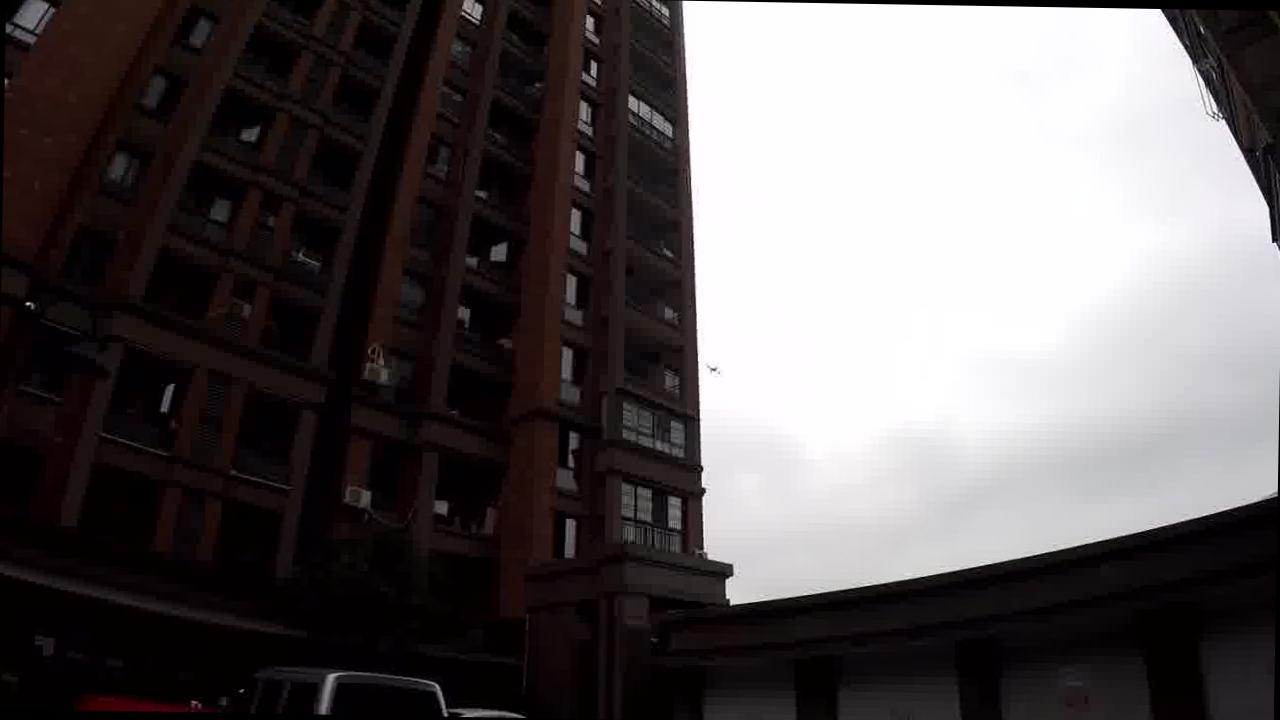drone: (704, 359, 723, 378)
